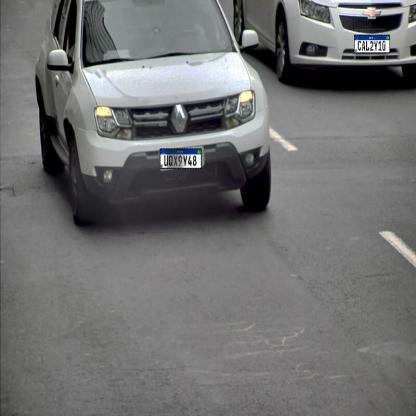PlacaM: (160, 148, 202, 170), (354, 35, 390, 53)
